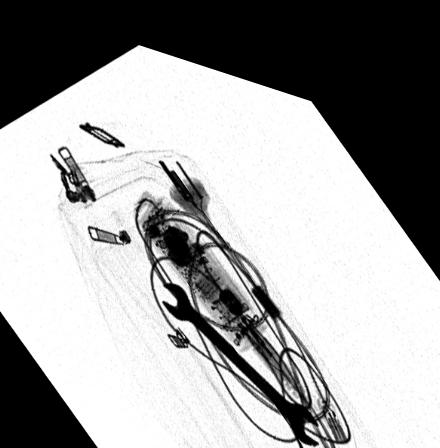Wrench: (158, 268, 321, 426)
